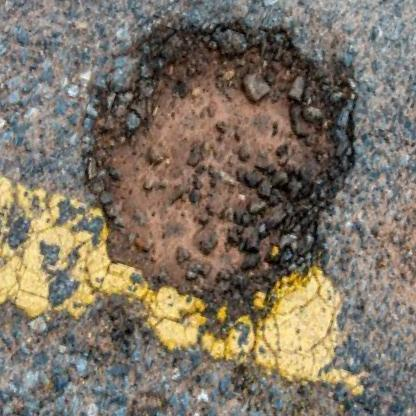pothole: (57, 0, 388, 328)
